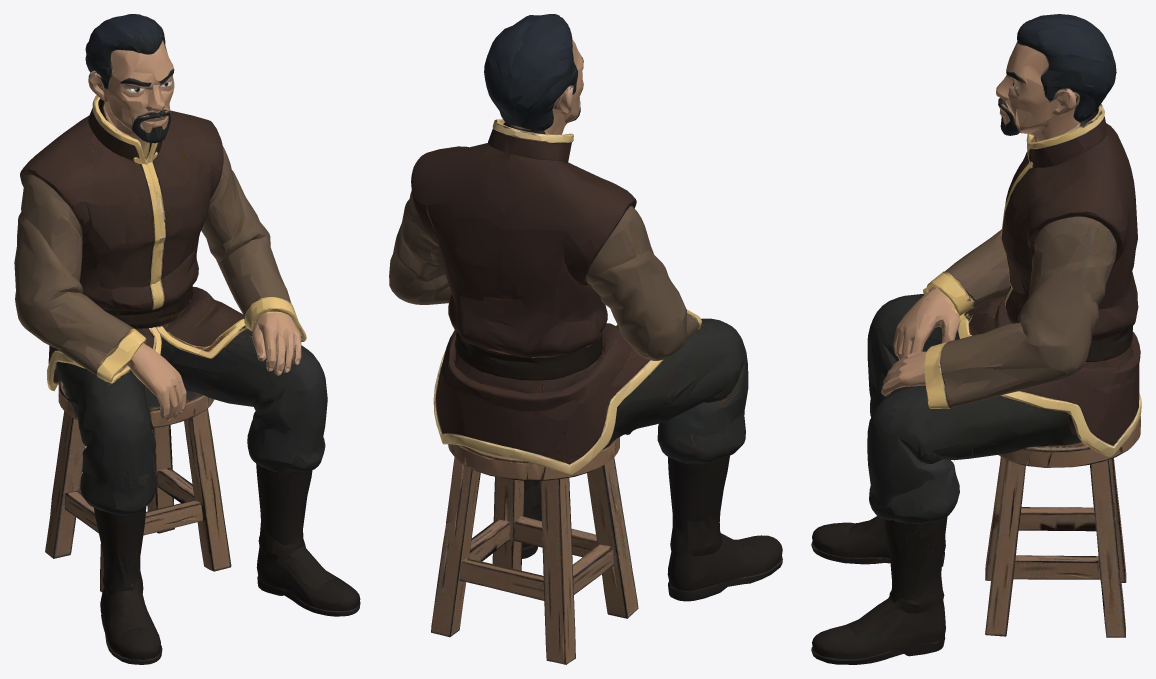
File: piandao2.glb
3 renders of one model, left to right at view 1: azimuth 30°, elevation 25°; view 2: azimuth 150°, elevation 25°; view 3: azimuth 270°, elevation 25°, orthographic. The views are drawn at different scales.
Visible parts, largest first — view 1: Mesh_0; view 2: Mesh_0; view 3: Mesh_0.
Part boxes in pixels (x1,y1,x2,y2): Mesh_0: (14,14,360,664); Mesh_0: (389,14,782,664); Mesh_0: (811,14,1141,664).
Bounding box in the file's own units: 0.9166 × 1.9 × 0.9729.
1 material, 1 textured.
